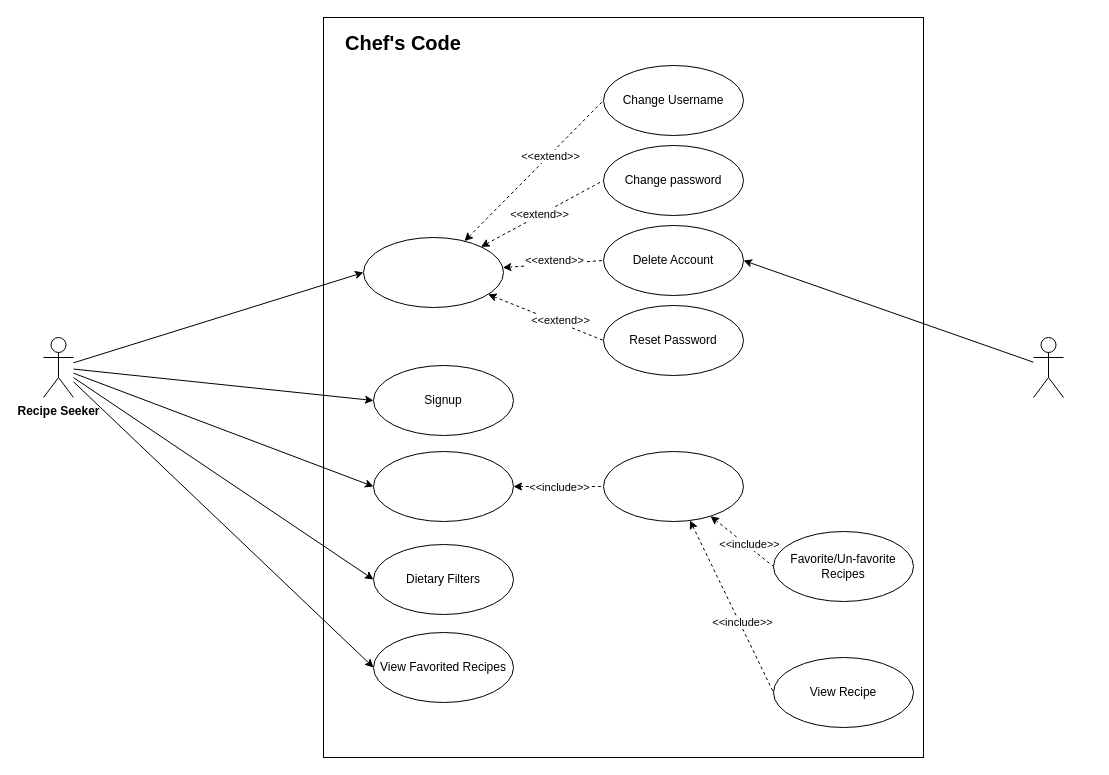
Image size: 1109x775. Some labels were removed from this diagram. Each missing label, with the centre of its shape:
"Account Admin" belongs at pixel 1048 367.
"Input Ingredients" belongs at pixel 443 486.
"Login" belongs at pixel 433 272.
"Search Recipes" belongs at pixel 673 486.
